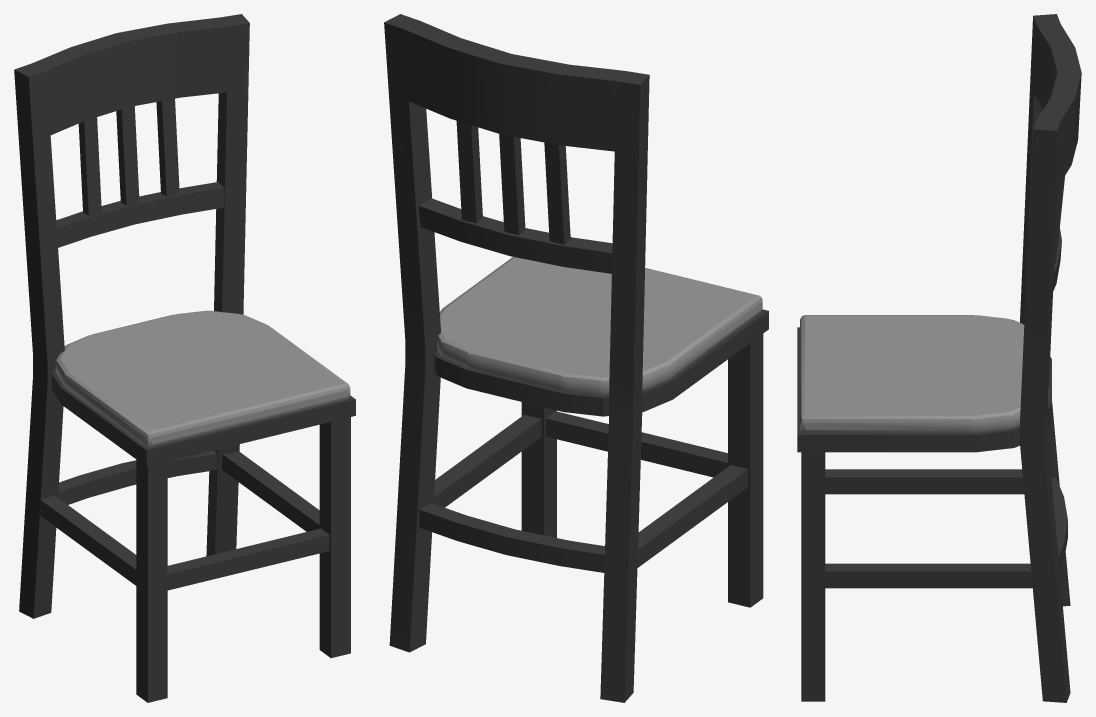
The model's file is Chair_05_C2.fbx.
3 views of the same model, side by side, from view 1: azimuth 30°, elevation 25°; view 2: azimuth 150°, elevation 25°; view 3: azimuth 270°, elevation 25° (orthographic). The views are drawn at different scales.
Visible parts, largest first — view 1: Chair_05_C2; view 2: Chair_05_C2; view 3: Chair_05_C2.
Boxes of the visible parts, x1=… form: Chair_05_C2: x1=14, y1=14, x2=355, y2=702; Chair_05_C2: x1=384, y1=14, x2=768, y2=702; Chair_05_C2: x1=797, y1=14, x2=1081, y2=702.
Size of the model in its own units: 43.51 by 100 by 44.67.
